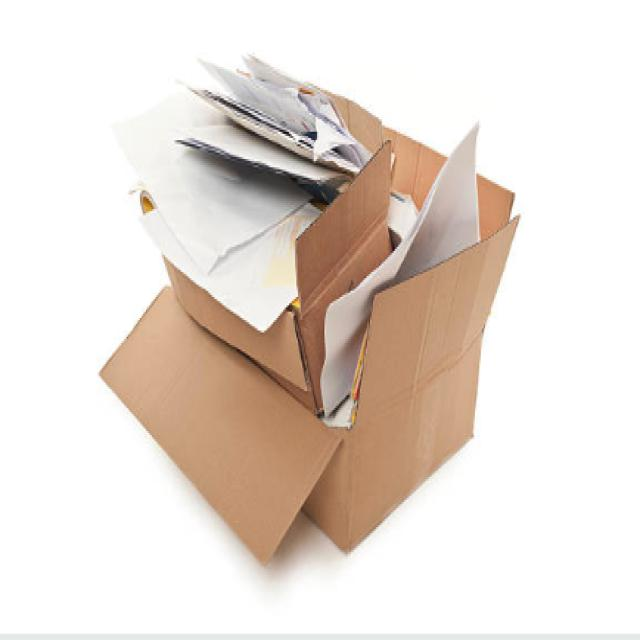Kardus: (98, 50, 520, 563)
